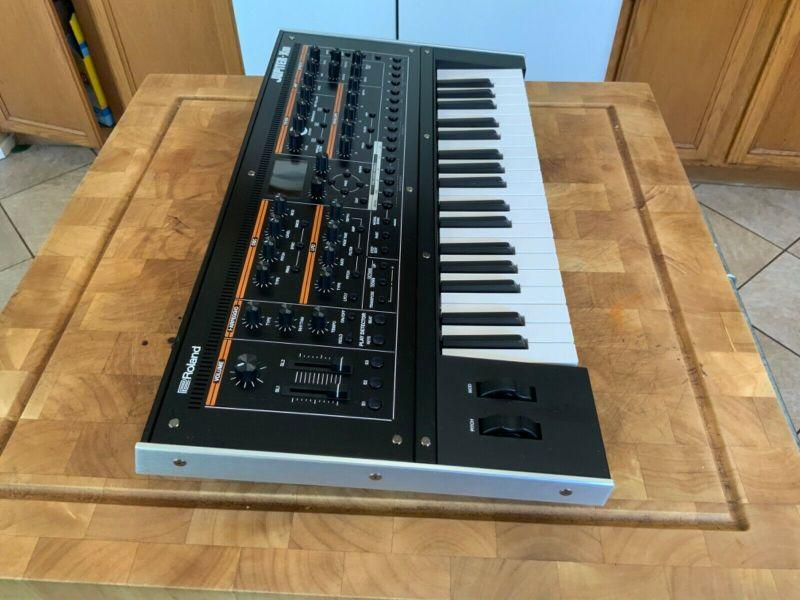synthesizer: (124, 17, 624, 523)
